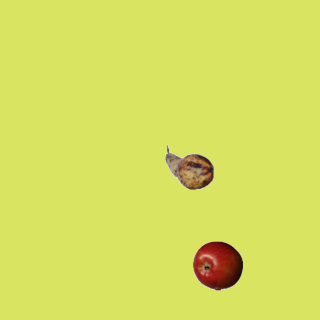Apple Braeburn: (192, 240, 242, 290)
Pear Abate: (164, 142, 214, 192)
